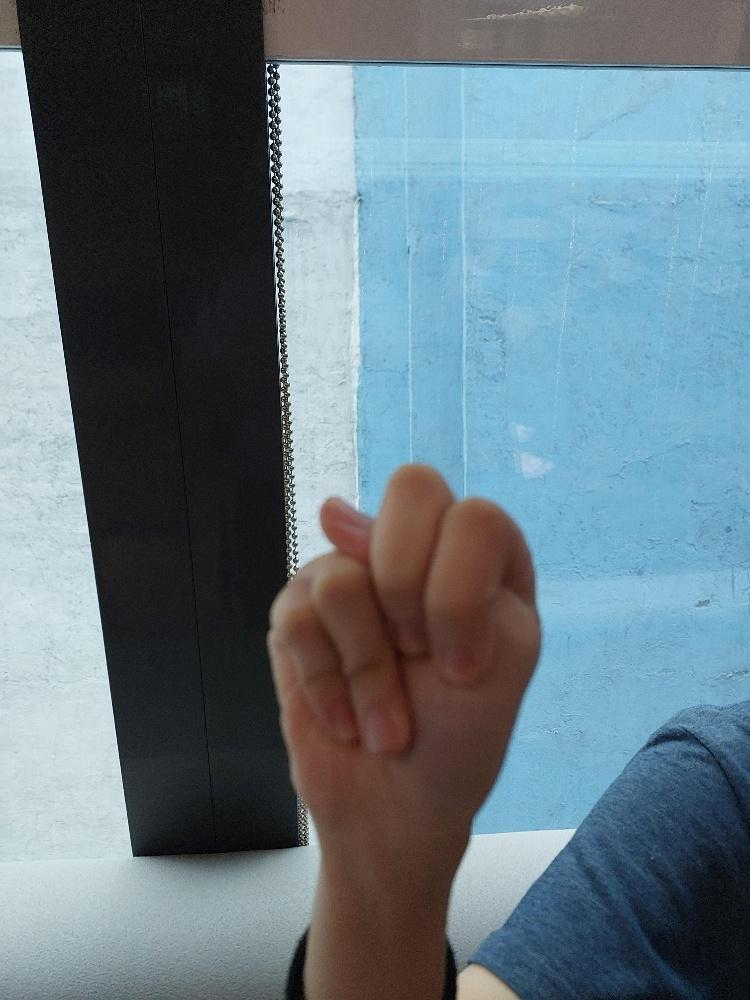n: (263, 461, 542, 803)
